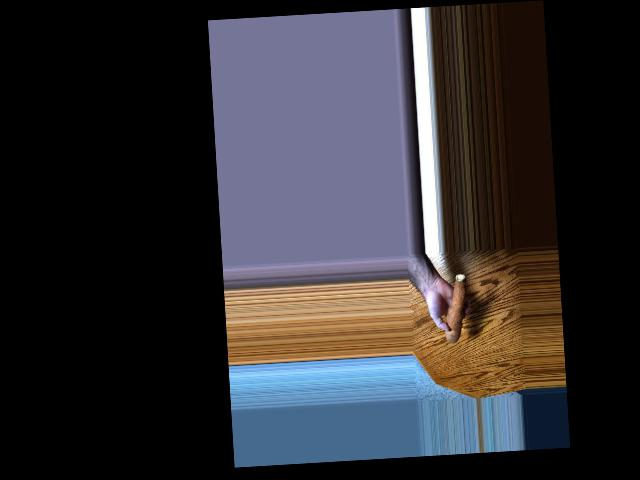sweet_potato: (446, 270, 468, 346)
